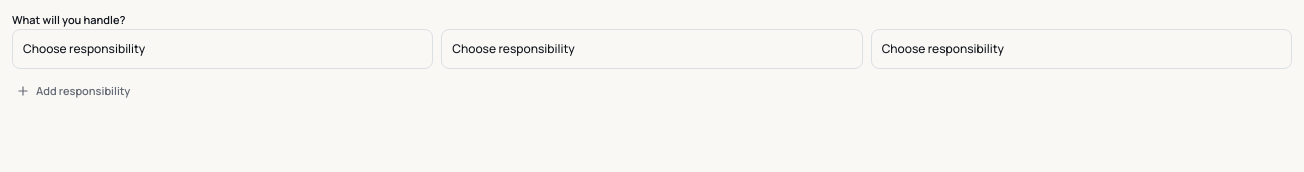
Test: TeamRolePicker › shows three compact responsibility slots and adds another only on request
Expected: the dropdown named "Responsibility 1" is shown, [12,28,433,68]
Expected: the dropdown named "Responsibility 2" is shown, [441,28,863,68]
Step 1. Click the button "Add responsibility" → [73, 91], box [12,78,134,103]
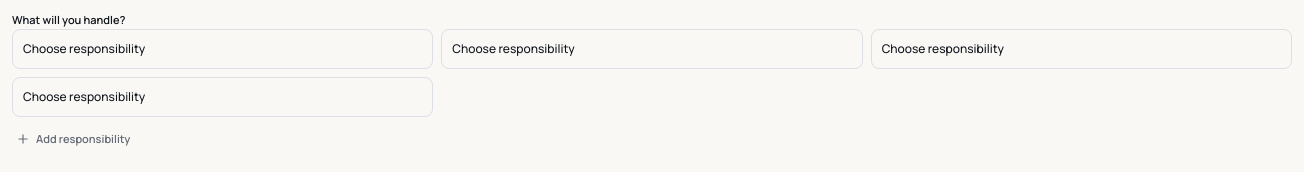
Result: the dropdown named "Responsibility 4" is shown at [12,76,433,116]
